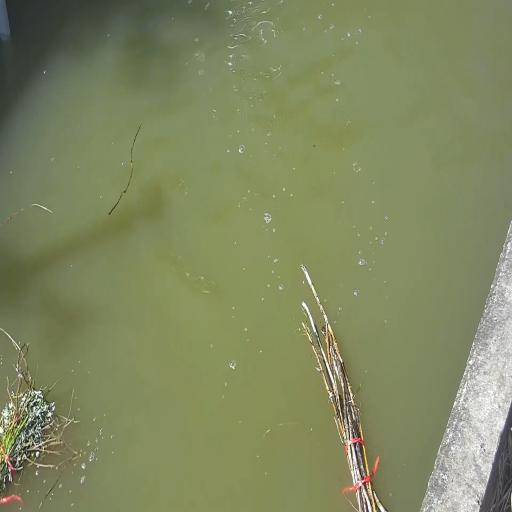twig: (293, 256, 388, 512), (0, 321, 82, 512)
